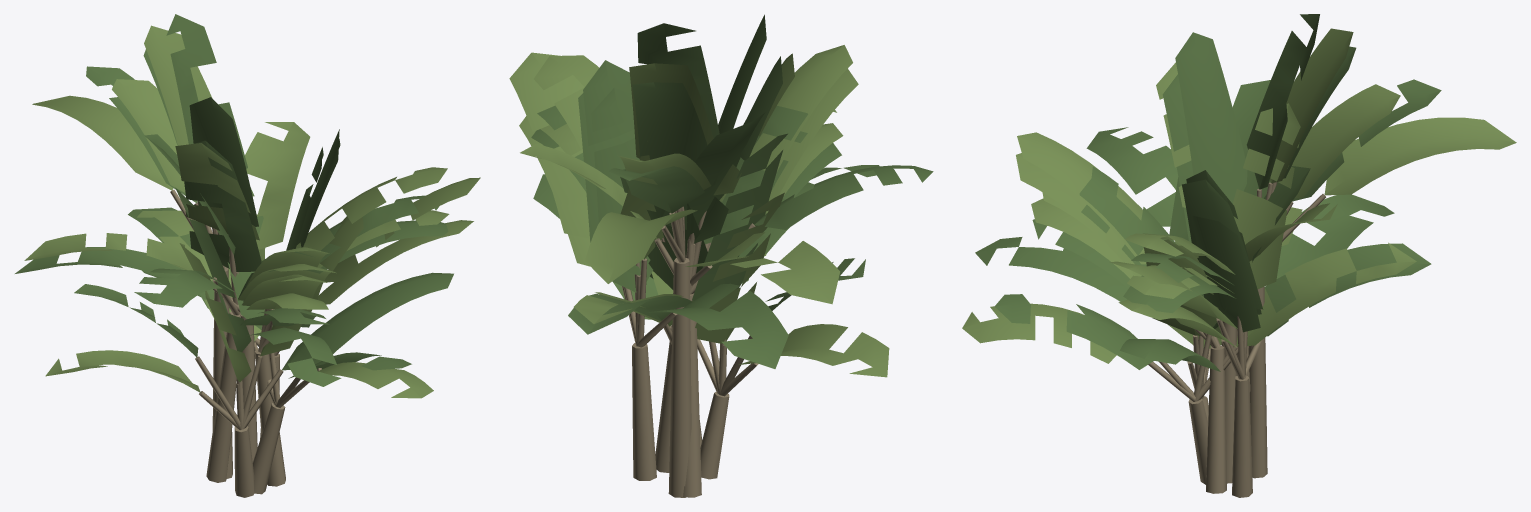
Rendered from strelitzia.glb.
3 views of the same model, side by side, from view 1: azimuth 30°, elevation 25°; view 2: azimuth 150°, elevation 25°; view 3: azimuth 270°, elevation 25° (orthographic). The views are drawn at different scales.
Parts seen in each view (by area): view 1: strelitzia-strelitzia-light, strelitzia-strelitzia, strelitzia-strelitzia-stem; view 2: strelitzia-strelitzia, strelitzia-strelitzia-light, strelitzia-strelitzia-stem; view 3: strelitzia-strelitzia, strelitzia-strelitzia-light, strelitzia-strelitzia-stem.
Boxes of the visible parts, <box> form: strelitzia-strelitzia-light: <box>24,25,480,398</box>; strelitzia-strelitzia: <box>15,14,453,386</box>; strelitzia-strelitzia-stem: <box>170,189,321,497</box>; strelitzia-strelitzia: <box>531,14,933,368</box>; strelitzia-strelitzia-light: <box>509,45,889,377</box>; strelitzia-strelitzia-stem: <box>622,206,758,497</box>; strelitzia-strelitzia: <box>975,14,1441,371</box>; strelitzia-strelitzia-light: <box>962,28,1516,363</box>; strelitzia-strelitzia-stem: <box>1148,182,1325,497</box>.
Bounding box in the file's own units: 3.66 × 4.1 × 4.54.
